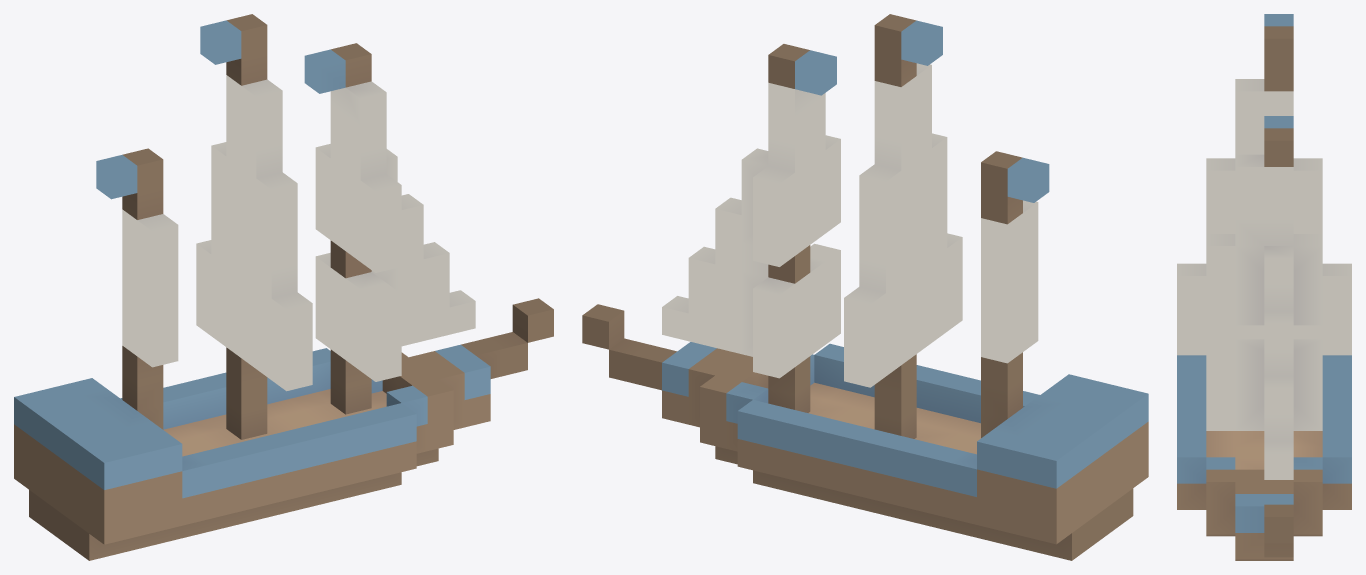
File: galleon.lite.glb
3 renders of one model, left to right at view 1: azimuth 30°, elevation 25°; view 2: azimuth 150°, elevation 25°; view 3: azimuth 270°, elevation 25°, orthographic. The views are drawn at different scales.
Visible parts, largest first — view 1: galleon; view 2: galleon; view 3: galleon.
Part boxes in pixels (left/top/right/bottom): galleon: left=14, top=14, right=553, bottom=560; galleon: left=582, top=14, right=1148, bottom=560; galleon: left=1177, top=14, right=1351, bottom=560.
Size of the model in its own units: 3.8 by 3.4 by 1.2.
